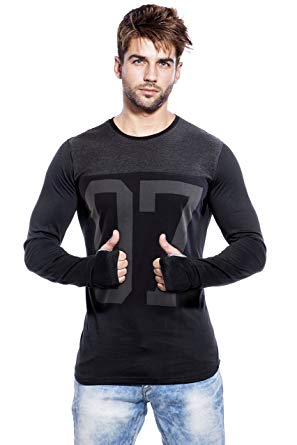NOTSAFE: (82, 1, 210, 367)
